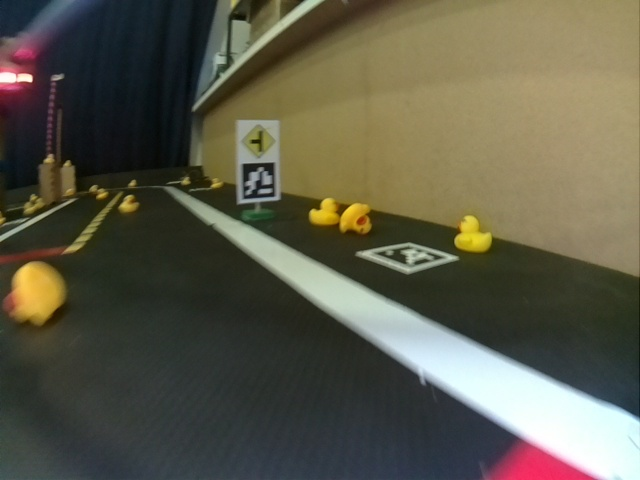Duckie: (4, 261, 66, 326), (455, 216, 493, 252), (339, 202, 373, 232), (309, 199, 337, 225), (120, 195, 138, 213), (211, 178, 223, 188), (96, 190, 106, 200), (45, 154, 54, 164), (180, 177, 189, 186)
Intersection sign: (242, 122, 276, 157)
QR code: (356, 243, 453, 274), (241, 162, 277, 200)
